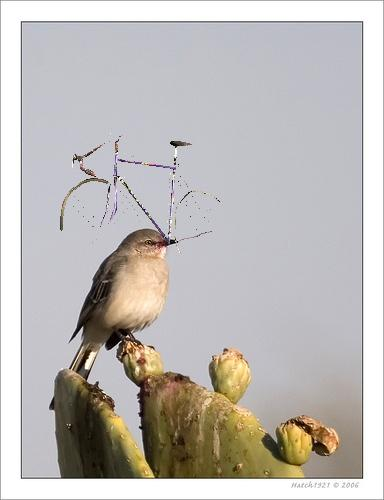tampered: (61, 134, 233, 263)
